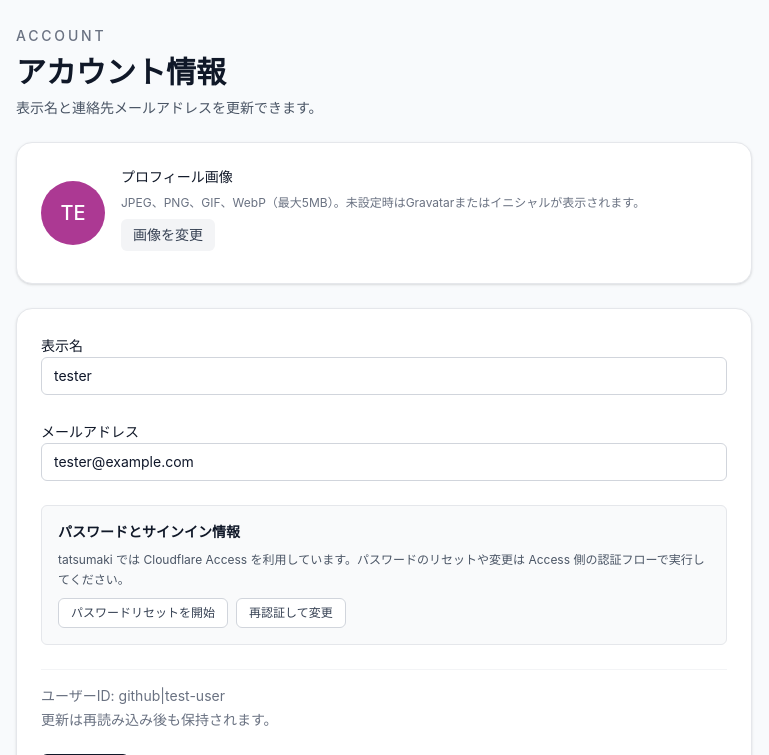
it: AccountScreen › shows validation errors returned by the API
Expected: the field showing "tester" is shown, [41,357,727,395]
Replace the text in the field labelled "メールアドレス" with "invalid" at (384, 462), box [41,443,727,481]
(page scrolled)
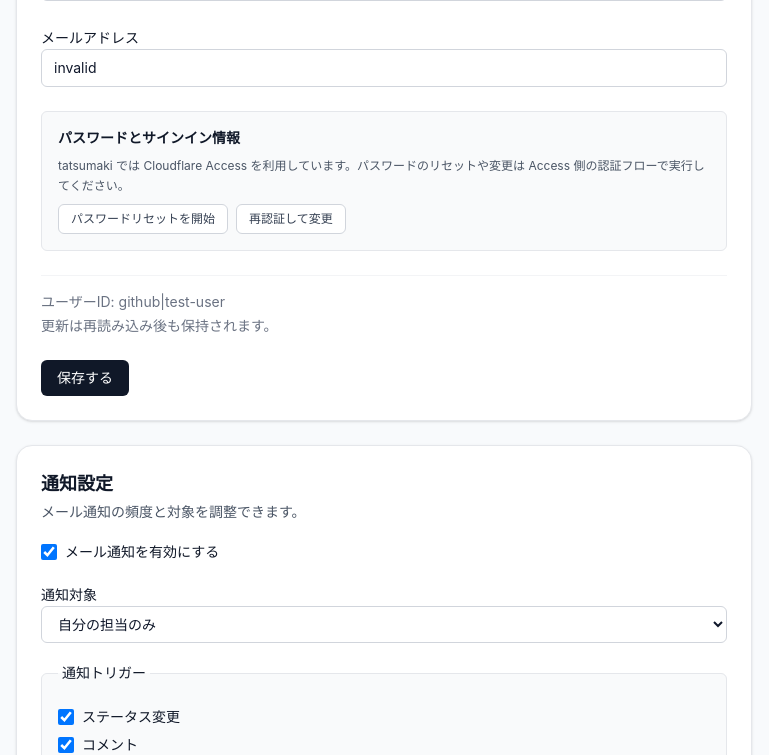
Submit the form from the button "保存する", box [41,360,129,396]
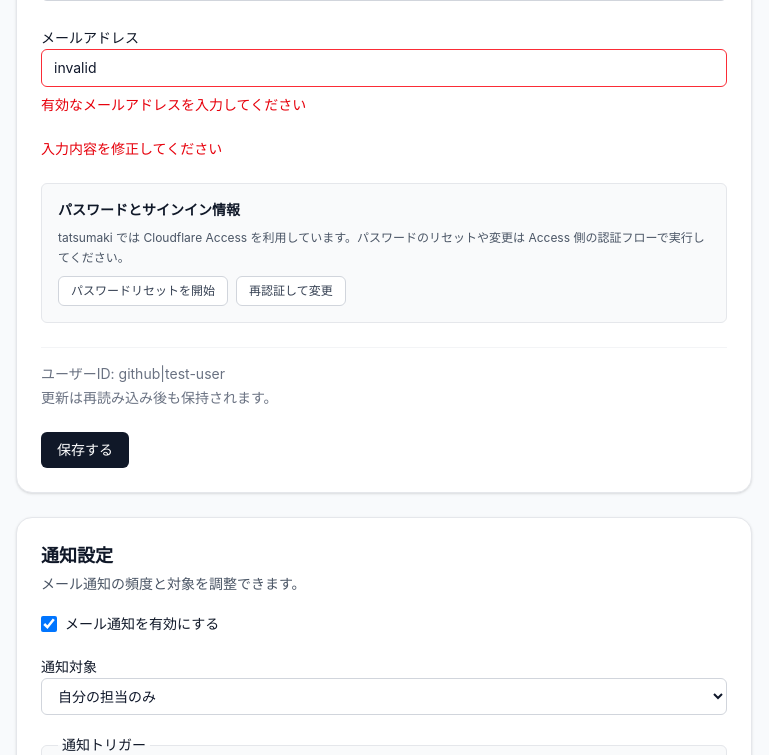
Result: the text "有効なメールアドレスを入力してください" is shown at [41,96,306,113]
